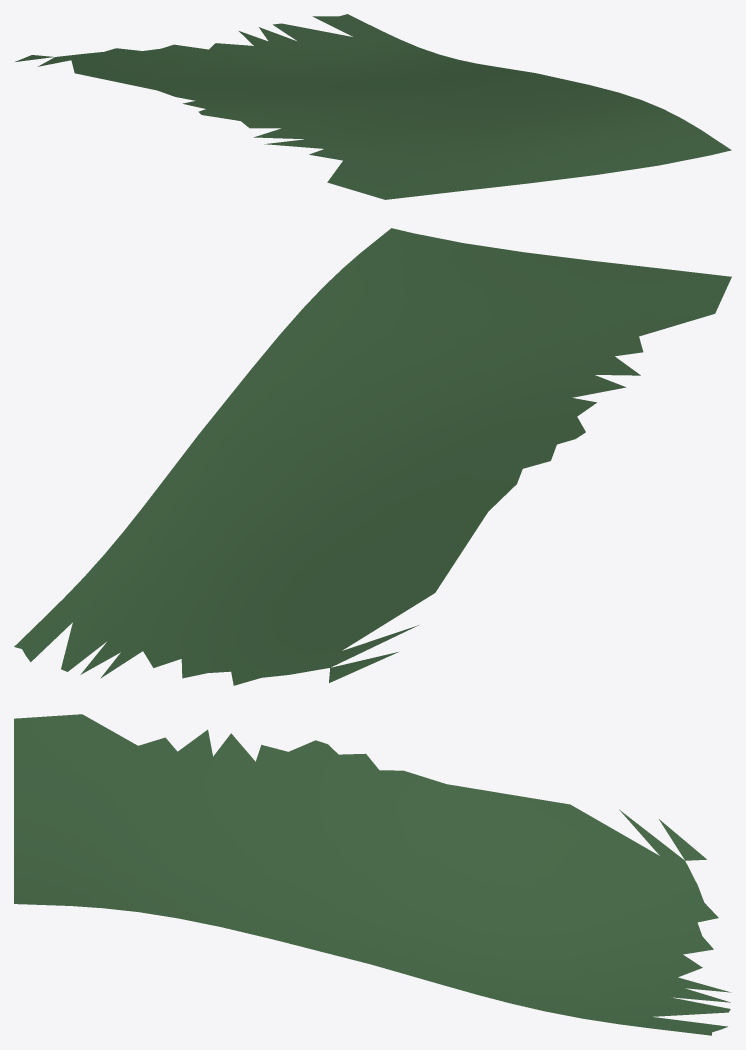
Rendered from payo_land_xm5_y10.glb.
3 views of the same model, one above another, from view 1: azimuth 30°, elevation 25°; view 2: azimuth 150°, elevation 25°; view 3: azimuth 270°, elevation 25° (orthographic). The views are drawn at different scales.
Parts seen in each view (by area): view 1: payo_land_xm5_y10; view 2: payo_land_xm5_y10; view 3: payo_land_xm5_y10.
Boxes of the visible parts, left/top/right/bottom form: payo_land_xm5_y10: left=15, top=14, right=731, bottom=199; payo_land_xm5_y10: left=14, top=228, right=731, bottom=685; payo_land_xm5_y10: left=14, top=714, right=731, bottom=1035.
Size of the model in its own units: 136 by 64.52 by 253.
